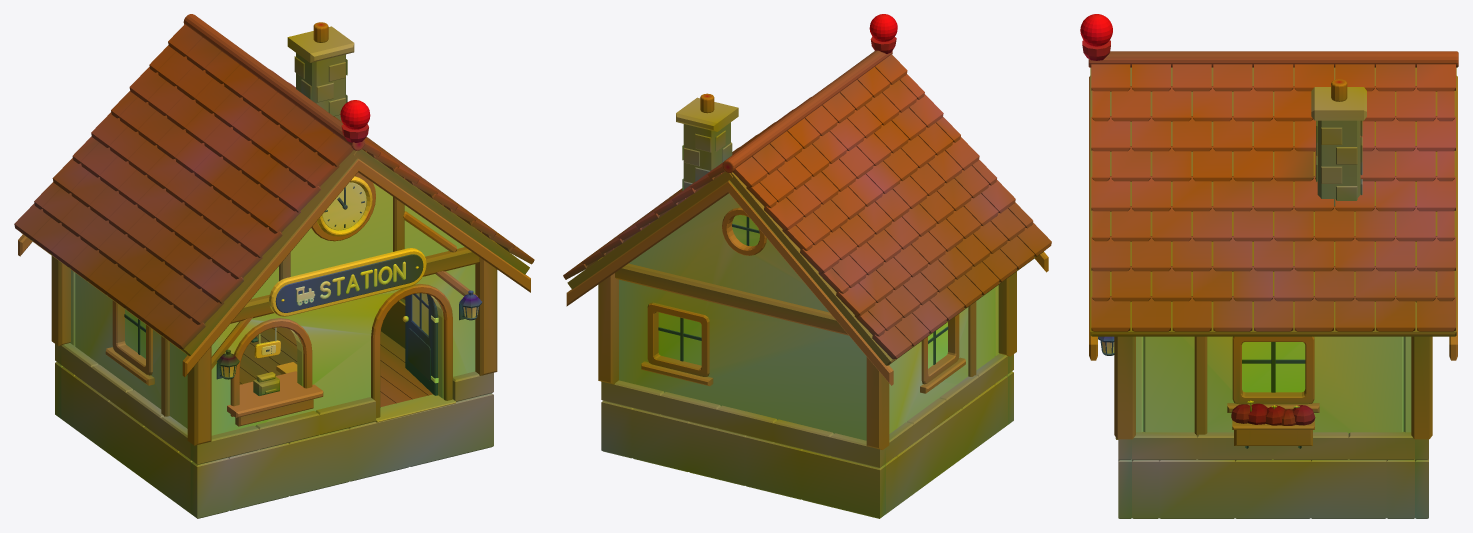
The model's file is Station_Building_Small.fbx.
3 views of the same model, side by side, from view 1: azimuth 30°, elevation 25°; view 2: azimuth 150°, elevation 25°; view 3: azimuth 270°, elevation 25° (orthographic). The views are drawn at different scales.
Parts seen in each view (by area): view 1: Roof, Walls, Plinth, Facade, Openings, Door, Interior, Sign_Name_Text; view 2: Roof, Walls, Plinth, Facade; view 3: Roof, Plinth, Walls, Facade.
Part boxes in pixels (left/top/right/bottom): Roof: left=14, top=14, right=534, bottom=355; Walls: left=18, top=158, right=530, bottom=445; Plinth: left=55, top=327, right=493, bottom=518; Facade: left=105, top=172, right=482, bottom=385; Openings: left=227, top=284, right=452, bottom=426; Door: left=402, top=293, right=438, bottom=395; Interior: left=276, top=300, right=405, bottom=374; Sign_Name_Text: left=320, top=261, right=405, bottom=299; Roof: left=563, top=14, right=1051, bottom=365; Walls: left=566, top=180, right=1048, bottom=449; Plinth: left=601, top=353, right=1013, bottom=518; Facade: left=641, top=207, right=965, bottom=393; Roof: left=1080, top=14, right=1458, bottom=336; Plinth: left=1115, top=431, right=1428, bottom=518; Walls: left=1089, top=76, right=1457, bottom=439; Facade: left=1098, top=336, right=1319, bottom=448.
Bounding box in the file's own units: 7.07 × 7.43 × 5.99.
